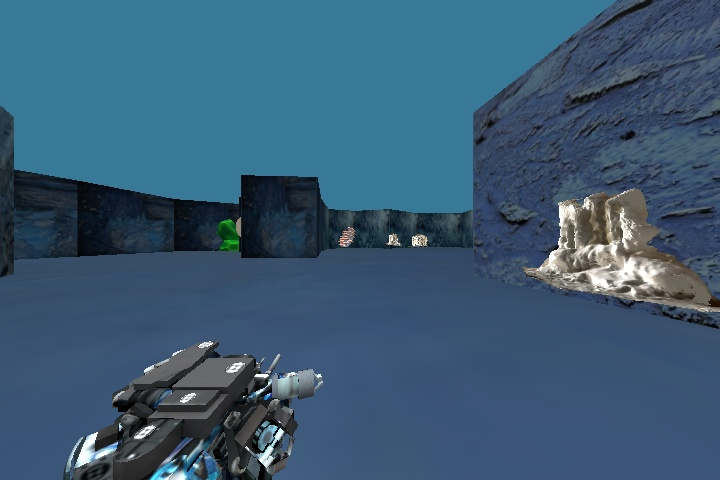formation: (538, 182, 702, 301), (378, 226, 430, 249)
green_crystal: (209, 211, 243, 253)
mushrooms: (332, 225, 359, 253)
